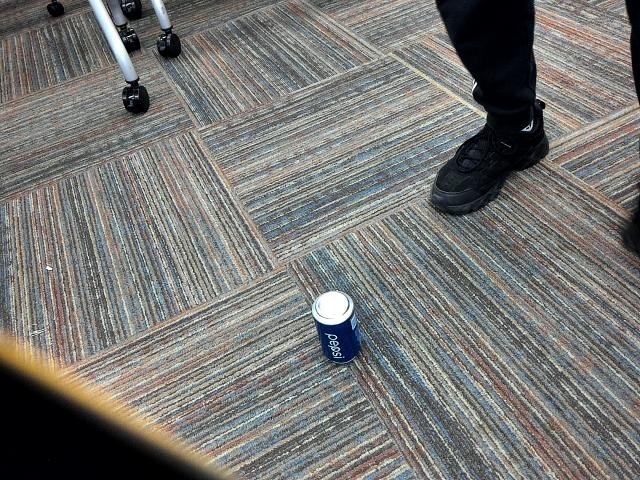can: (303, 285, 374, 370)
